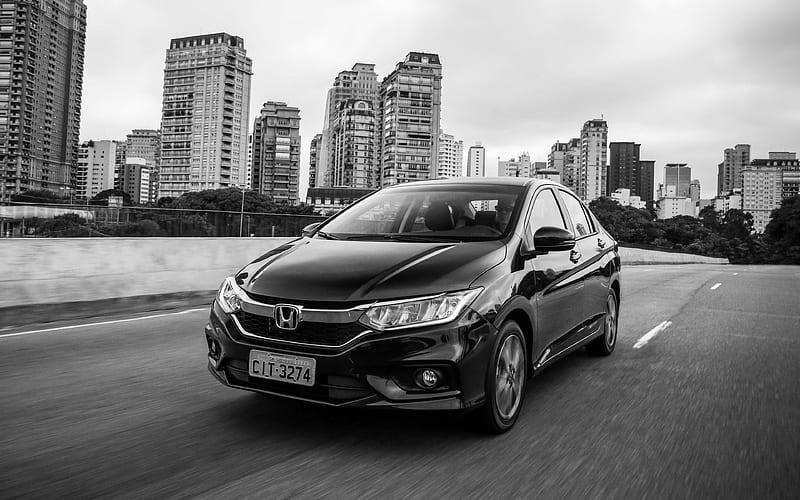Car hood: (232, 233, 510, 307)
Fender - -F-L-: (468, 232, 538, 379)
Front bumper: (197, 308, 502, 423)
Headlight - -L-: (351, 280, 490, 336)
Headlight - -R-: (210, 267, 255, 319)
Passenger-s door - -F-L-: (525, 179, 582, 364)
Passenger-s door - -R-L-: (575, 193, 617, 342)
Side bumper - -L-: (526, 322, 617, 383)
Side mirror - -L-: (530, 222, 580, 263)
Side mirror - -R-: (292, 214, 333, 245)
